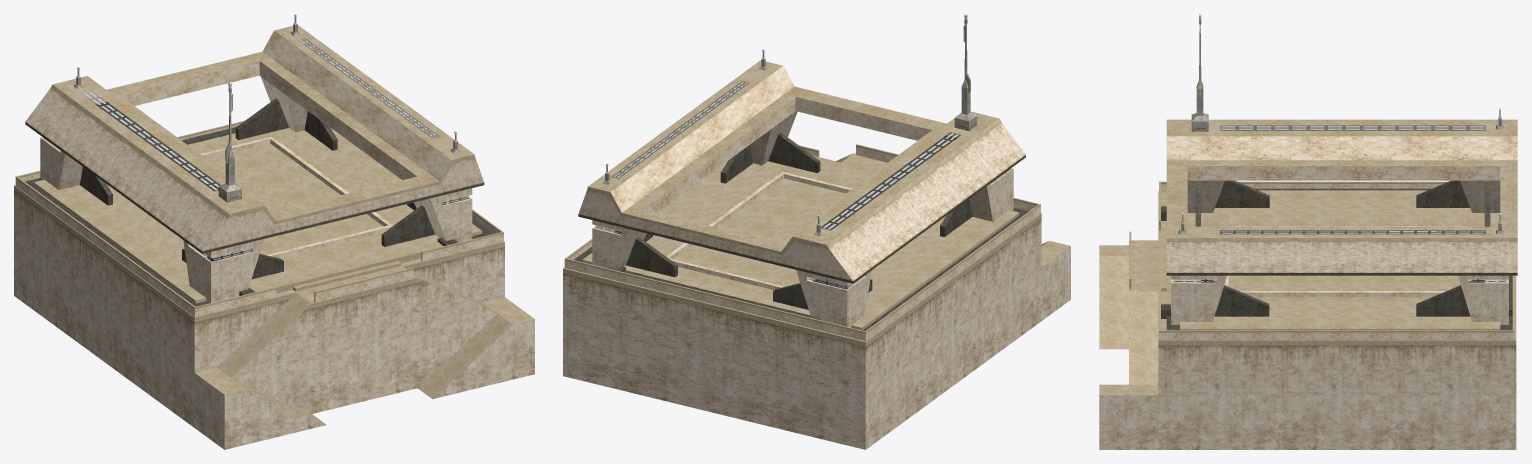
Rendered from ply_tato_shuttleport_s01_l0.fbx.
3 views of the same model, side by side, from view 1: azimuth 30°, elevation 25°; view 2: azimuth 150°, elevation 25°; view 3: azimuth 270°, elevation 25° (orthographic). The views are drawn at different scales.
Parts seen in each view (by area): view 1: mesh_node; view 2: mesh_node; view 3: mesh_node.
Boxes of the visible parts, x1,y1,x2,y2 form: mesh_node: [14, 14, 534, 449]; mesh_node: [563, 14, 1070, 449]; mesh_node: [1099, 14, 1517, 449].
Bounding box in the file's own units: 31.92 × 31.06 × 37.63.
